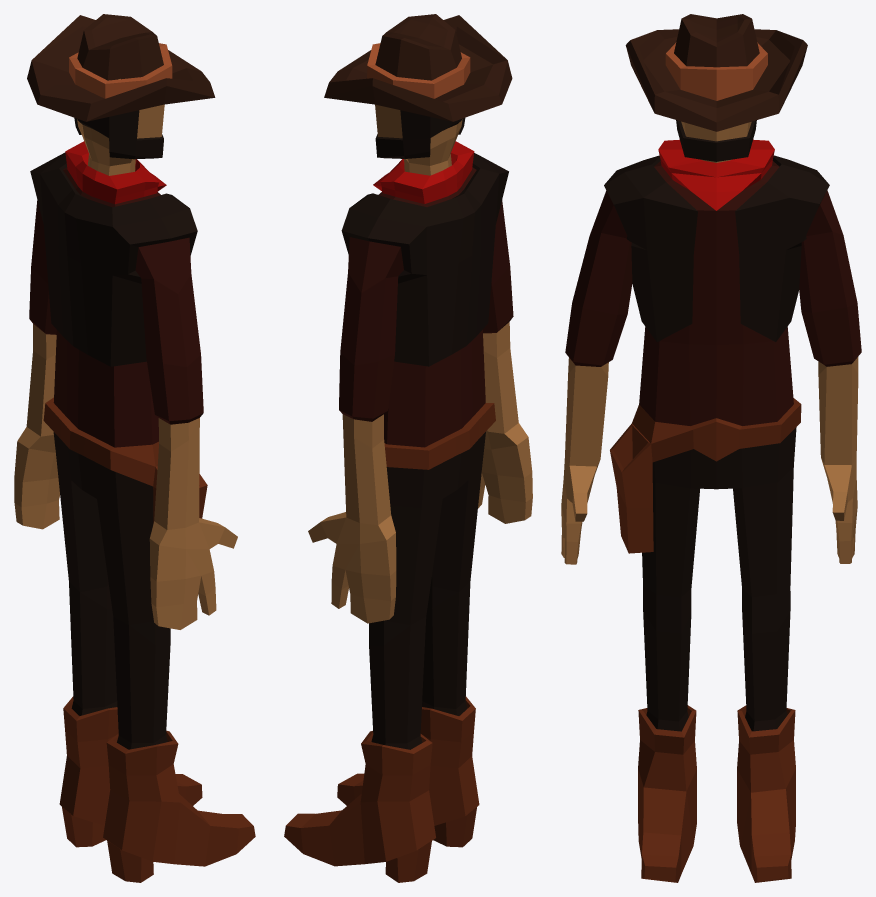
File: Cowboy.obj
The picture shows the model from 3 angles, left to right: view 1: azimuth 30°, elevation 25°; view 2: azimuth 150°, elevation 25°; view 3: azimuth 270°, elevation 25°; orthographic projection.
Parts seen in each view (by area): view 1: Cowboy_Cube, Hat_Cylinder; view 2: Cowboy_Cube, Hat_Cylinder; view 3: Cowboy_Cube, Hat_Cylinder.
Part boxes in pixels (x1,y1,x2,y2): Cowboy_Cube: [14, 79, 255, 882]; Hat_Cylinder: [27, 14, 215, 121]; Cowboy_Cube: [284, 104, 532, 882]; Hat_Cylinder: [324, 14, 512, 121]; Cowboy_Cube: [561, 120, 861, 882]; Hat_Cylinder: [625, 14, 807, 131].
Bounding box in the file's own units: 4.46 × 19.02 × 6.24.
